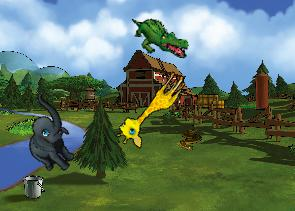crocodile: (128, 16, 191, 59)
elephant: (5, 92, 94, 179)
giraffe: (112, 62, 189, 153)
